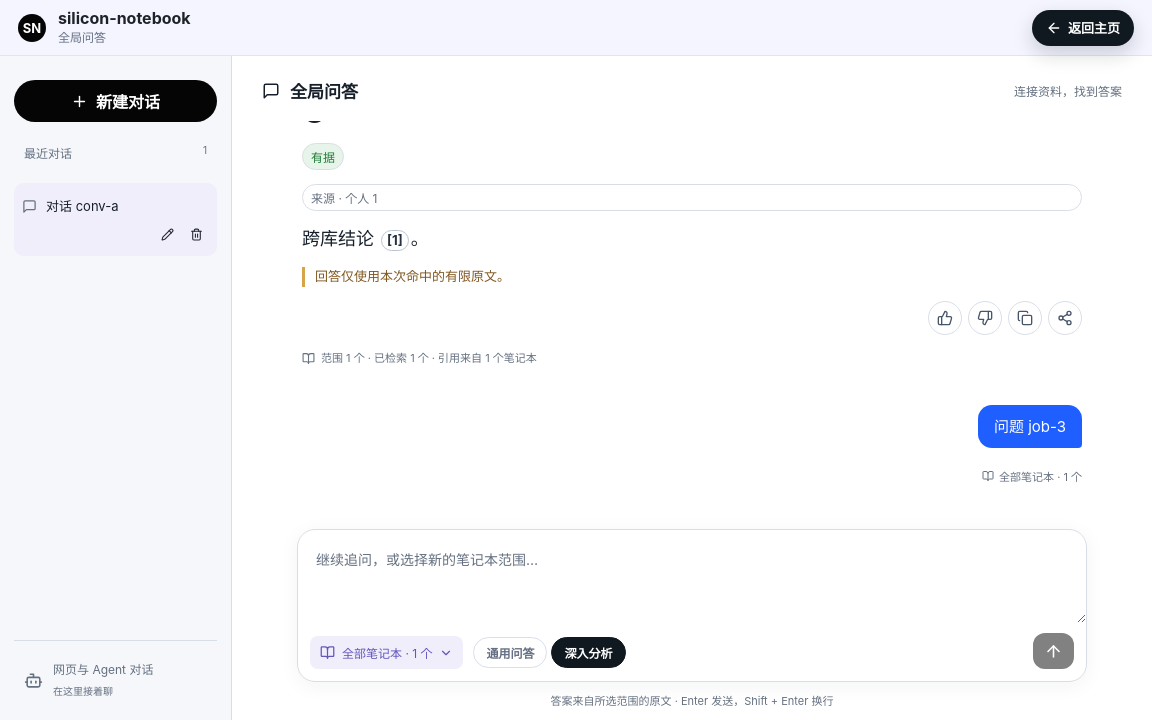
Test: 五态之 at：链接正好停在这条作业上，如实说「就到这条回答为止」
(page scrolled)
Step 1. Click the button named "分享到这条回答" → [1065, 318], box top-left (1048, 301), bottom-right (1082, 335)
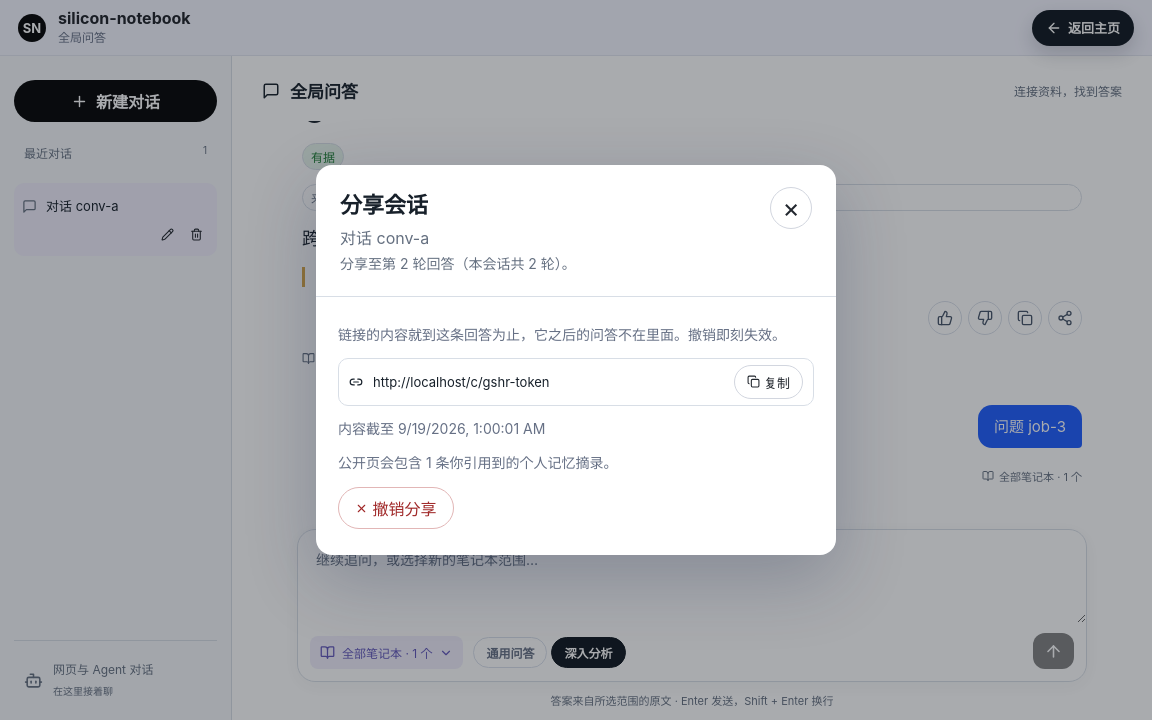
Expected: the heading "分享会话" is shown, top-left (340, 192), bottom-right (428, 218)
Expected: the field named "分享链接" is shown, top-left (371, 373), bottom-right (726, 391)
Expected: the text "链接的内容就到这条回答为止，它之后的问答不在里面。撤销即刻失效。" is shown, top-left (338, 324), bottom-right (814, 346)
